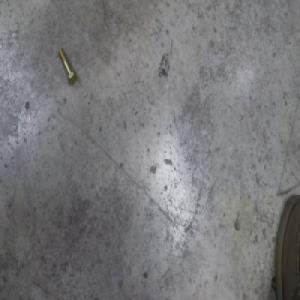Bolt: (57, 46, 78, 85)
